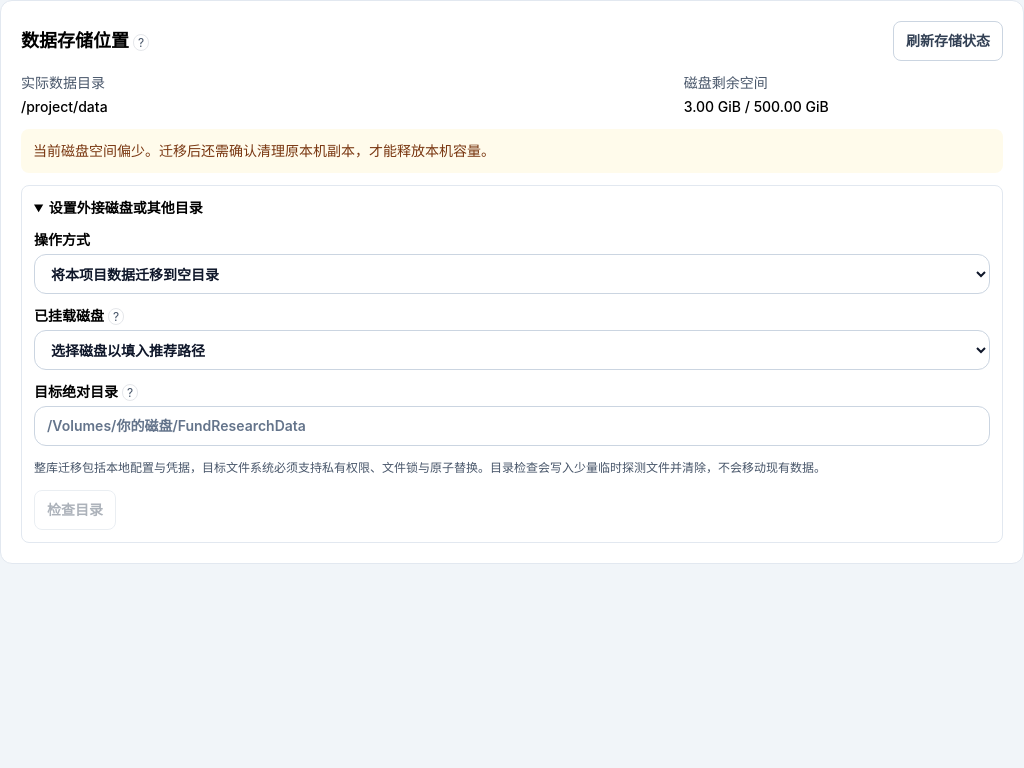
Test: 接入已有目录先说明共享范围，再确认数据标识，不触发迁移
Expected: the text "/project/data" is shown, [21,98,108,115]
Select "研究磁盘 · 剩余 100.00 GiB" in the dropdown labelled "已挂载磁盘" at x=512, y=350, box [34,330,990,370]
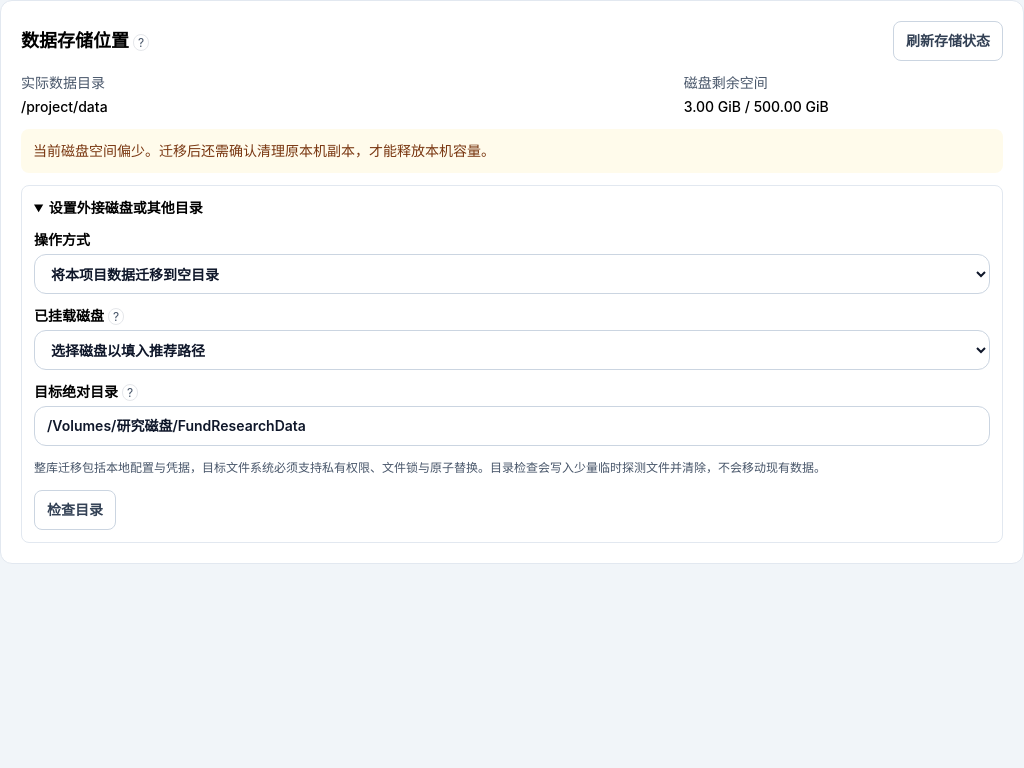
Select "使用已有数据目录（不复制）" in the dropdown named "存储操作方式" at x=512, y=274, box [34,254,990,294]
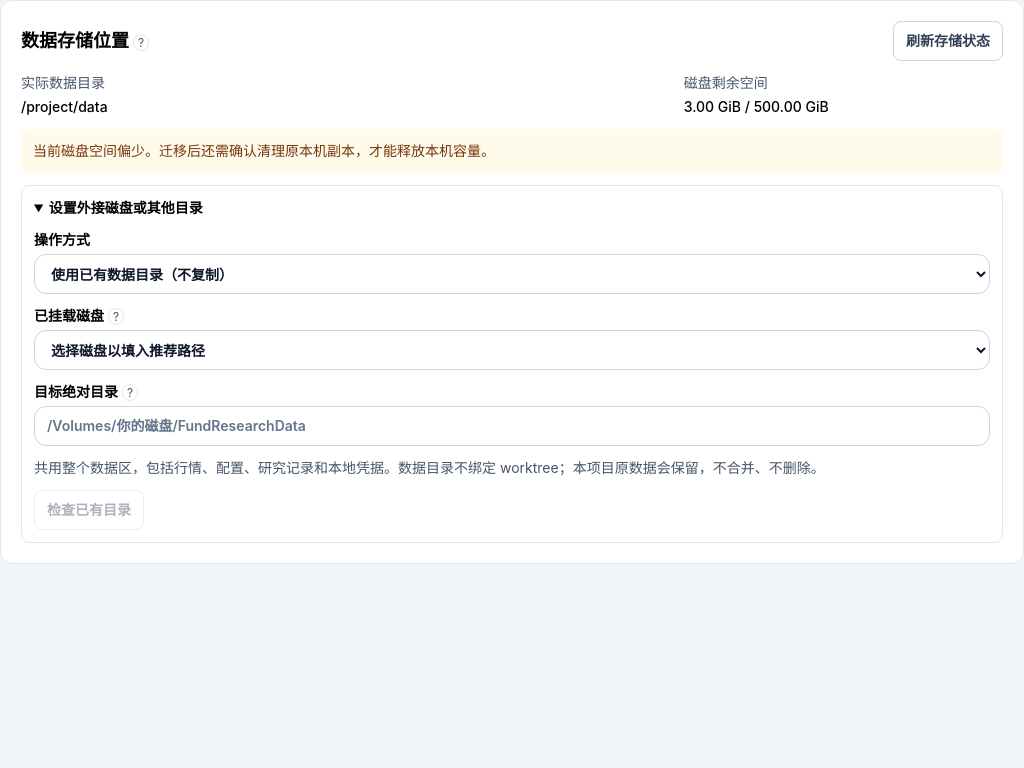
Type "/Volumes/研究磁盘/FundResearchData" into the field labelled "目标绝对目录".
click(512, 426); type("/Volumes/研究磁盘/FundResearchData")  # box [34,406,990,446]
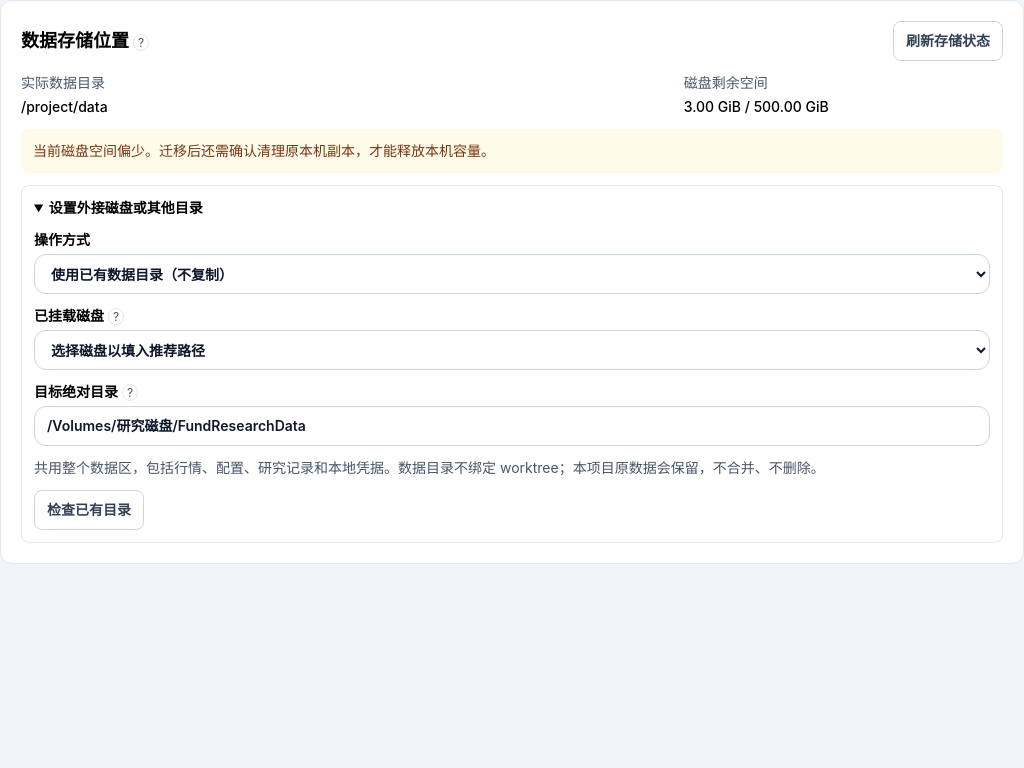
Expected: the text "共用整个数据区，包括行情、配置、研究记录和本地凭据" is shown, [34,459,825,476]
Click the button "检查已有目录".
click(89, 510)  # box [34,490,144,530]
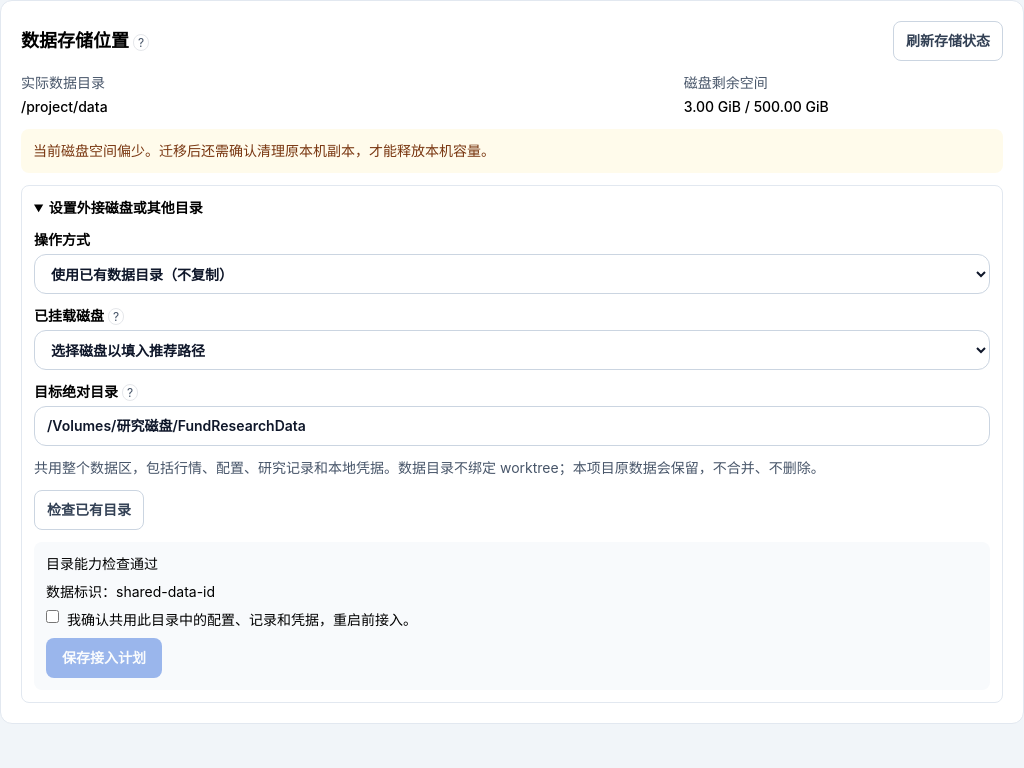
Expected: the text "数据标识：shared-data-id" is shown, [46,583,215,600]
Expected: the button "保存接入计划" is disabled, [46,638,162,678]
Click the checkbox named "确认共用已有数据目录".
click(52, 616)  # box [46,610,59,623]
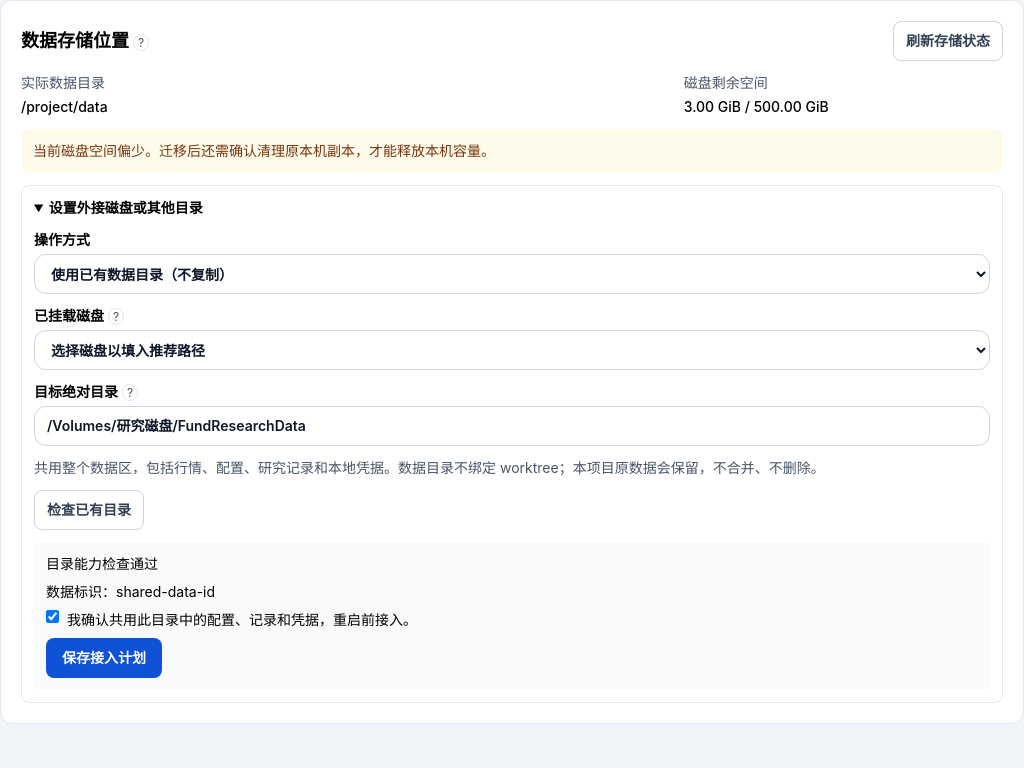
Click the button "保存接入计划".
click(104, 658)  # box [46,638,162,678]
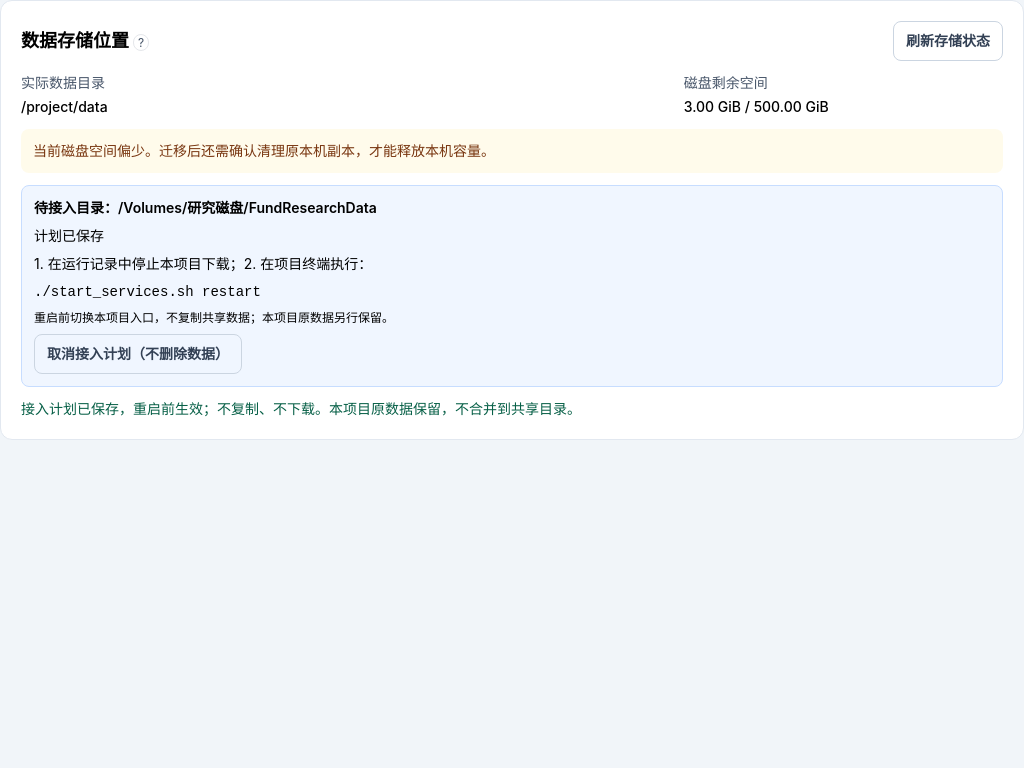
Expected: the text "./start_services.sh restart" is shown, [34,284,261,300]
Expected: the button "取消接入计划（不删除数据）" is shown, [34,334,242,374]
